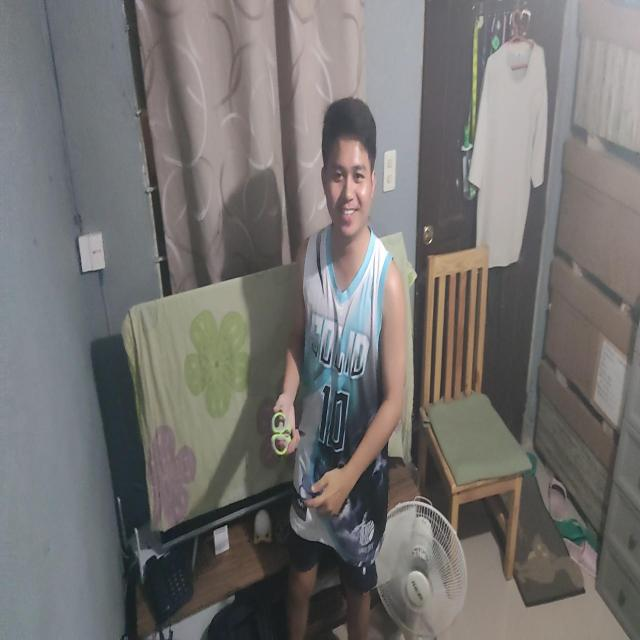scissor: (271, 413, 307, 456)
